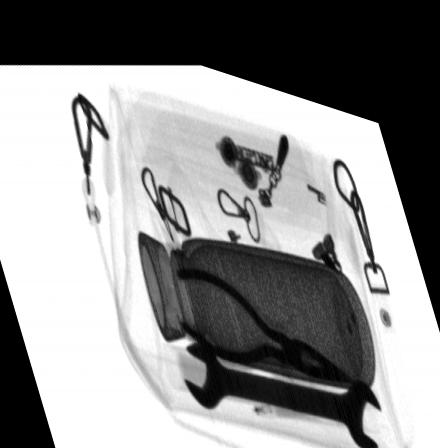Pliers: (176, 255, 356, 360)
Wrench: (182, 325, 384, 432)
